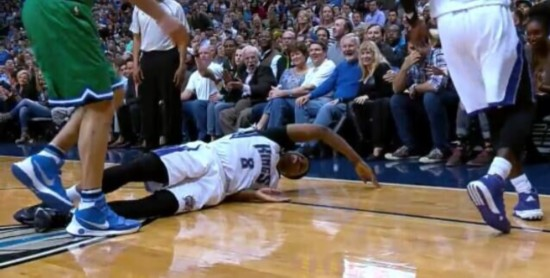10+: (1, 1, 549, 243)
down: (11, 106, 388, 231)
